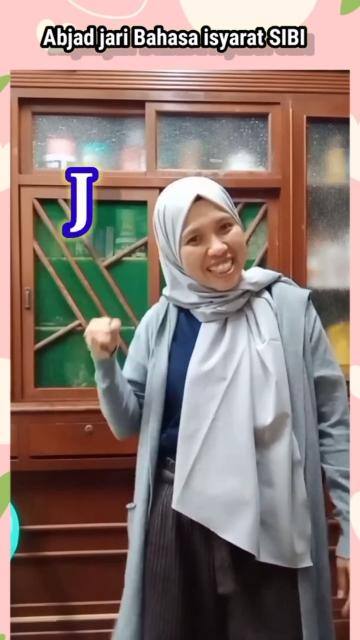J: (80, 313, 126, 359)
